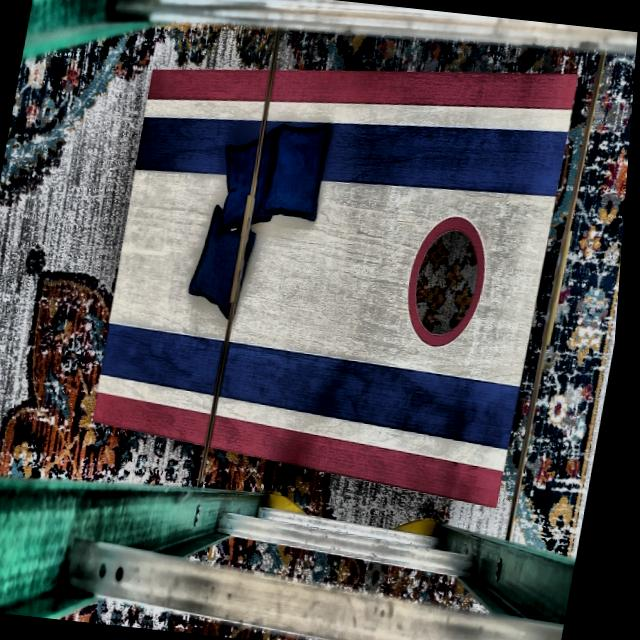blue-bean-bag: (187, 204, 264, 323), (216, 124, 289, 230), (259, 120, 333, 224)
board: (96, 70, 572, 465)
hole: (403, 210, 500, 350)
